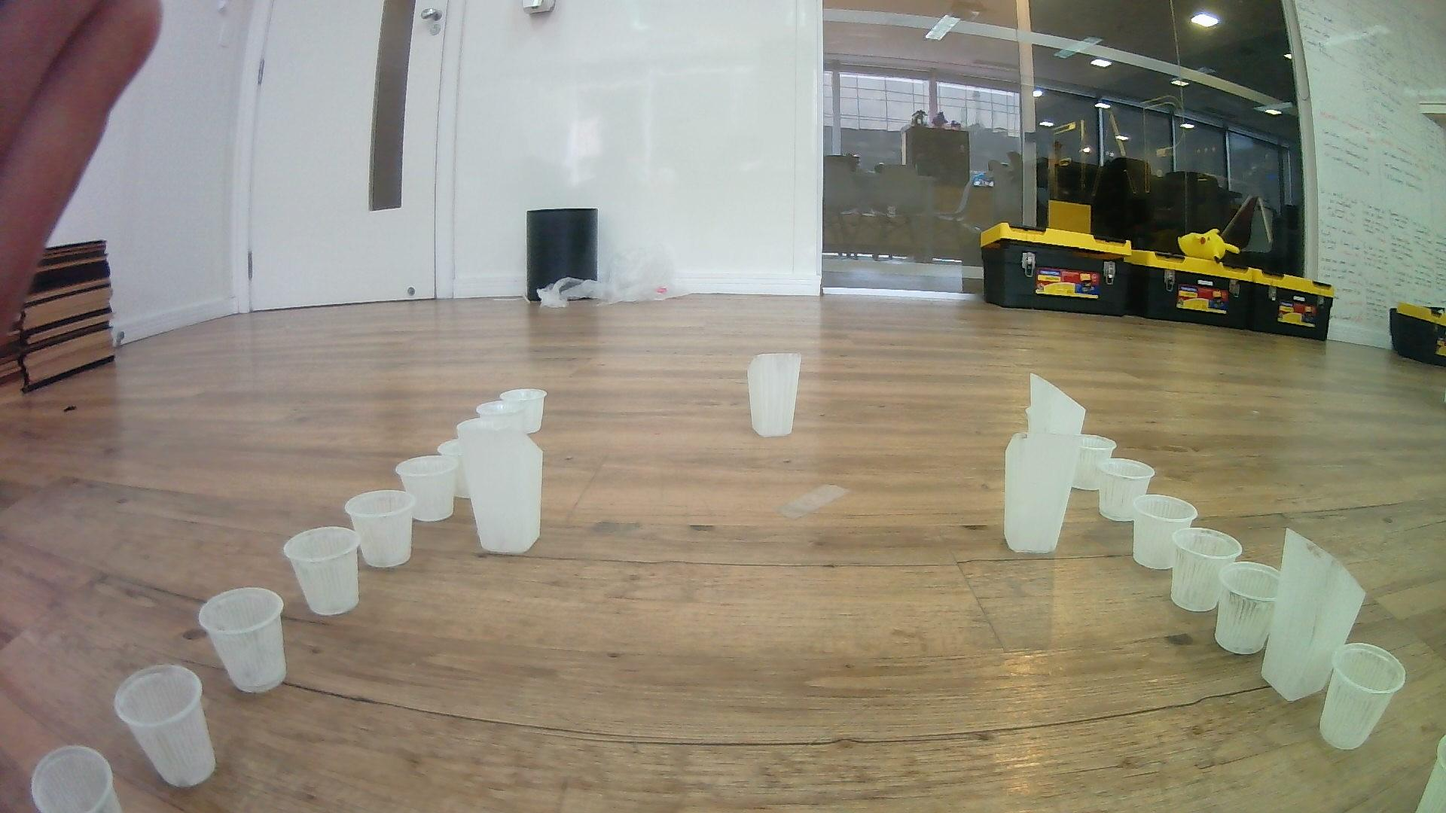erva_daninha: (1261, 528, 1368, 703), (456, 419, 544, 555), (1002, 431, 1084, 554), (746, 352, 803, 438), (1024, 372, 1088, 437)
planta: (114, 665, 217, 788), (196, 586, 287, 694), (1318, 642, 1407, 751), (282, 525, 361, 617), (29, 745, 125, 813), (1215, 562, 1283, 656), (1170, 528, 1243, 613), (344, 489, 416, 569), (1131, 494, 1198, 571), (395, 454, 461, 522), (1094, 457, 1155, 522), (1072, 434, 1118, 491), (499, 387, 548, 434), (437, 438, 474, 499), (475, 400, 526, 432)
